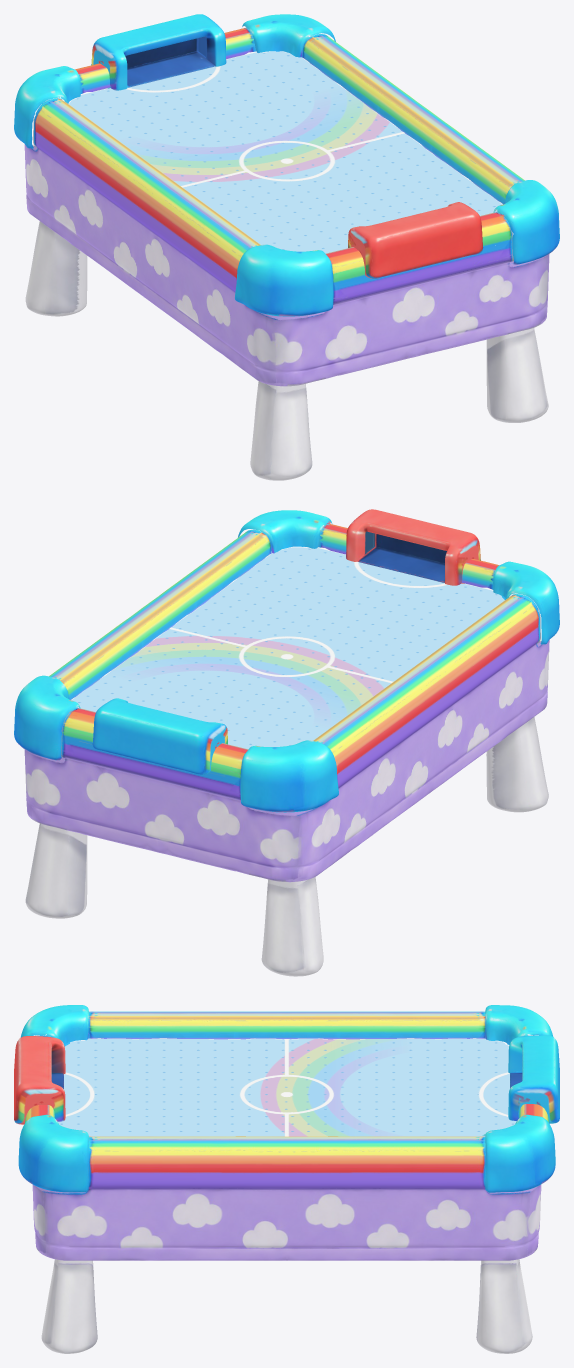
Rendered from table-cloudy.glb.
3 views of the same model, one above another, from view 1: azimuth 30°, elevation 25°; view 2: azimuth 150°, elevation 25°; view 3: azimuth 270°, elevation 25° (orthographic). The views are drawn at different scales.
Visible parts, largest first — view 1: table; view 2: table; view 3: table.
Boxes of the visible parts, bbox=[...] form: table: bbox=[14, 14, 559, 480]; table: bbox=[14, 509, 559, 976]; table: bbox=[14, 1005, 559, 1353].
Size of the model in its own units: 7.88 by 5.68 by 12.31.
Materials: 2 (2 with a texture image).
